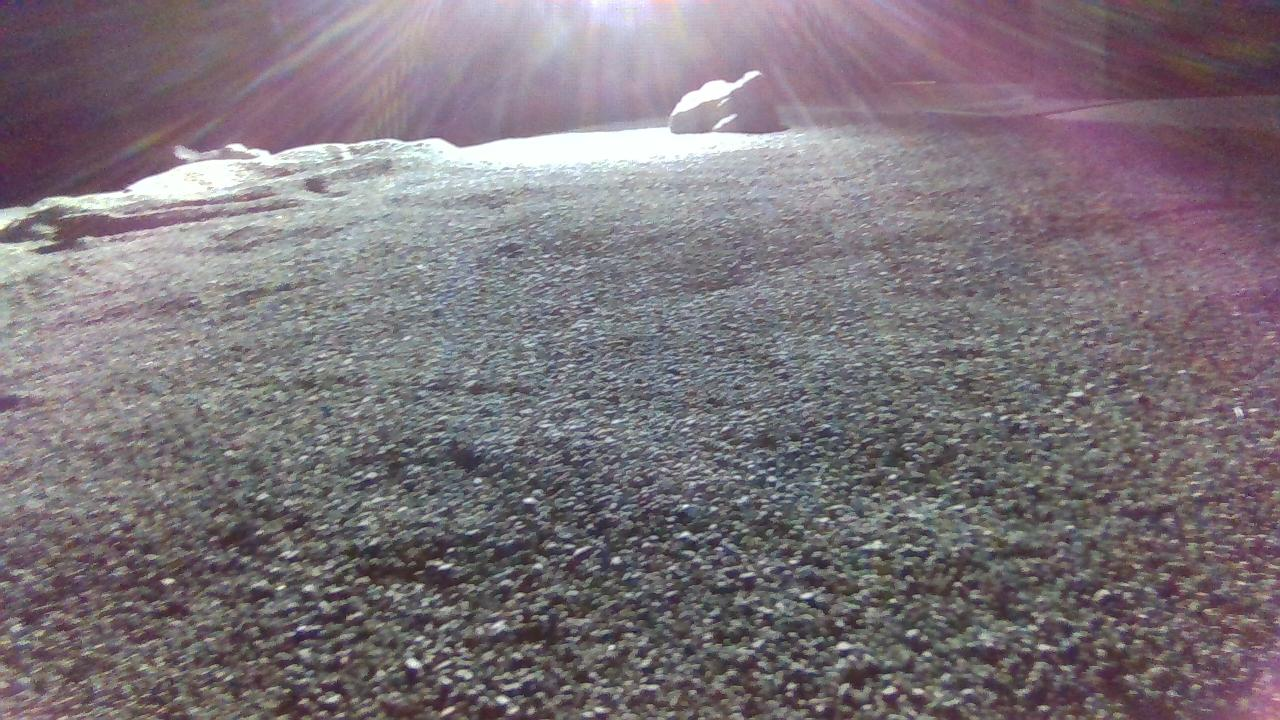rock: (669, 69, 783, 132), (172, 142, 269, 162)
